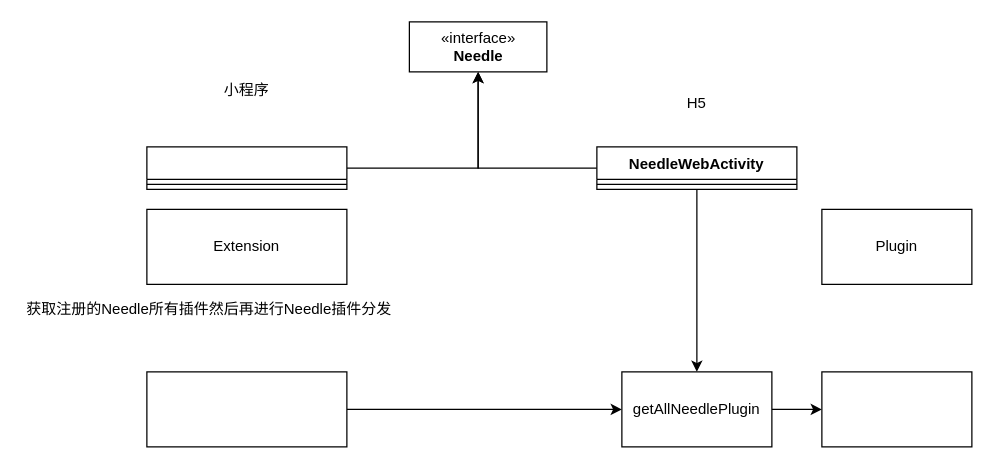
Some shapes in this 994 by 469 pixel diagram are drawn without their labels. The shapes that lost their labels are listed below. From the top down, each one's box as (x1, y1, x2, y2) in pixels, then its label:
(146, 146, 347, 189): RiverInsideActivity
(146, 371, 347, 447): NeedleExtension
(821, 371, 972, 447): handleNeedlePlugin
